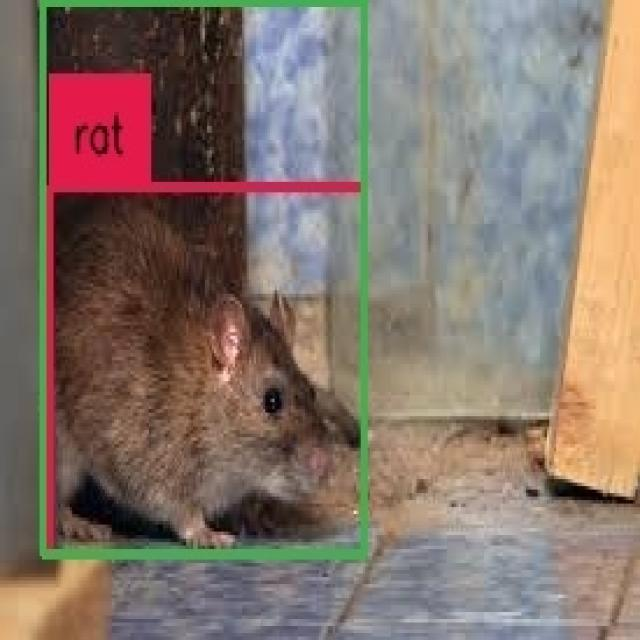rat: (43, 4, 364, 556), (50, 187, 364, 554)
